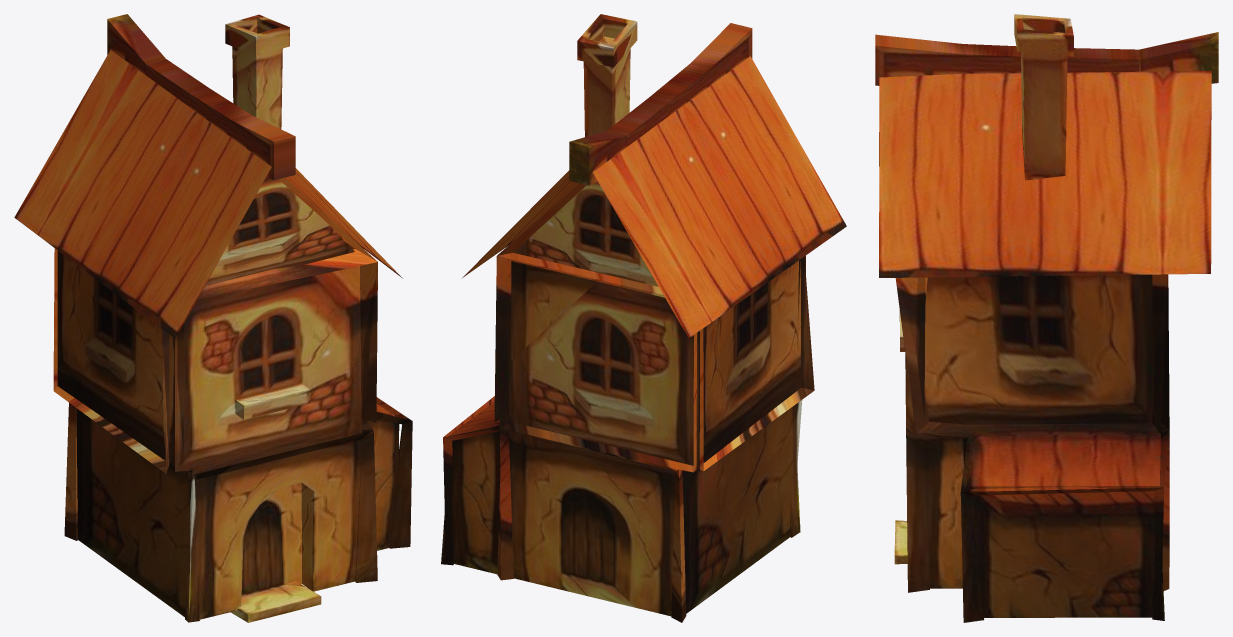
3 renders of one model, left to right at view 1: azimuth 30°, elevation 25°; view 2: azimuth 150°, elevation 25°; view 3: azimuth 270°, elevation 25°, orthographic. The views are drawn at different scales.
Visible parts, largest first — view 1: h8; view 2: h8; view 3: h8.
Part boxes in pixels (x1=…): h8: x1=14, y1=14, x2=412, y2=622; h8: x1=441, y1=14, x2=846, y2=622; h8: x1=875, y1=14, x2=1218, y2=622.
Bounding box in the file's own units: 1.59 × 2.91 × 1.64.
Materials: 1 (1 with a texture image).
